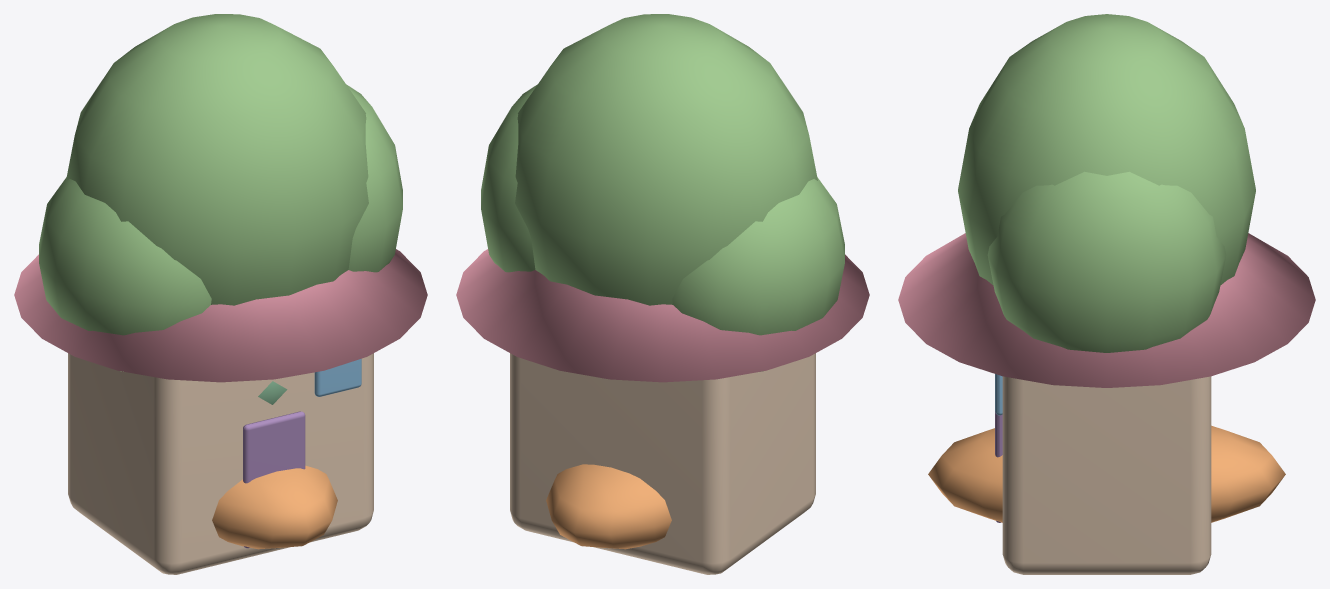
The model's file is toybox.glb.
The picture shows the model from 3 angles, left to right: view 1: azimuth 30°, elevation 25°; view 2: azimuth 150°, elevation 25°; view 3: azimuth 270°, elevation 25°; orthographic projection.
Visible parts, largest first — view 1: tree, house, boat; view 2: tree, house, boat; view 3: tree, house, boat.
Part boxes in pixels (x1,y1,x2,y2): tree: (39, 14, 402, 371); house: (14, 249, 427, 574); boat: (212, 465, 337, 549); tree: (481, 14, 844, 371); house: (456, 249, 869, 574); boat: (546, 464, 671, 549); tree: (958, 14, 1255, 352); house: (898, 233, 1315, 574); boat: (928, 425, 1285, 522).
Size of the model in its own units: 1.4 by 1.99 by 1.4.
